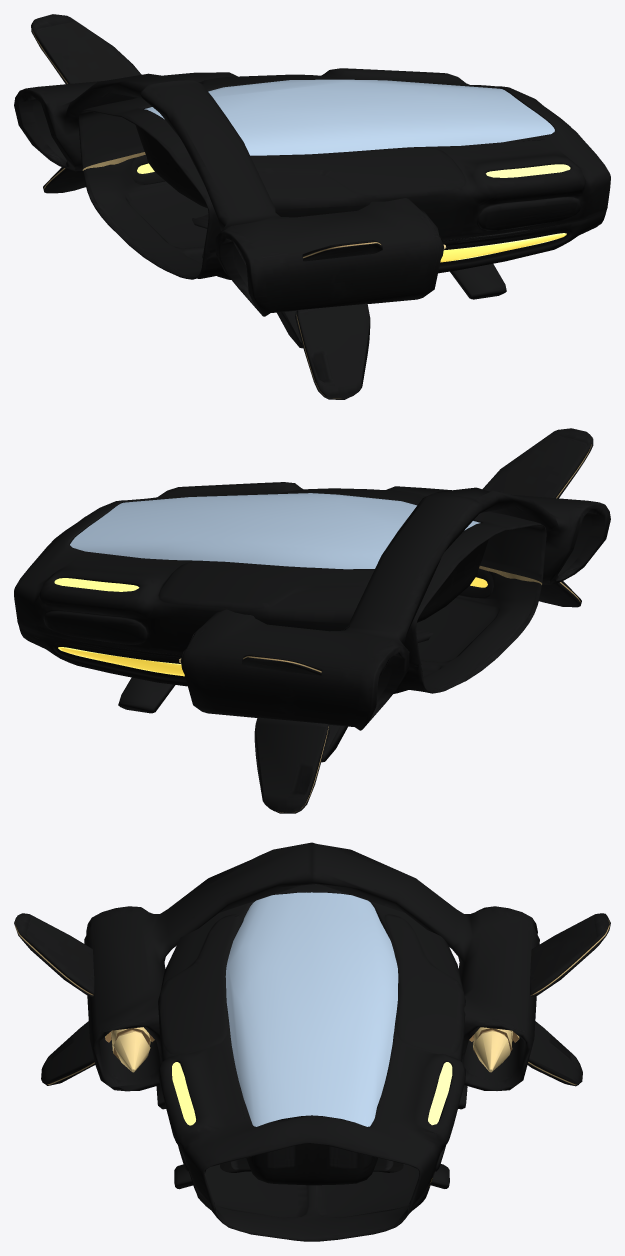
Rendered from ship.glb.
The picture shows the model from 3 angles, top to bottom: view 1: azimuth 30°, elevation 25°; view 2: azimuth 150°, elevation 25°; view 3: azimuth 270°, elevation 25°; orthographic projection. The views are drawn at different scales.
Visible parts, largest first — view 1: Hull, HullMain, Window, Lights; view 2: Hull, HullMain, Window, Lights; view 3: Hull, HullMain, Window, Engine, Lights, GoldAccents.
Boxes of the visible parts, x1,y1,x2,y2 form: Hull: (14,14,544,399); HullMain: (78,68,610,279); Window: (144,79,554,155); Lights: (137,163,570,262); Hull: (118,428,610,813); HullMain: (14,482,546,693); Window: (70,493,480,569); Lights: (54,577,487,676); Hull: (14,842,610,1189); HullMain: (158,884,465,1241); Window: (225,892,398,1126); Engine: (105,1027,519,1072); Lights: (172,1062,452,1125); GoldAccents: (15,920,609,1085).
Size of the model in its own units: 29.09 by 14.87 by 37.3.
Materials: 7 (6 with a texture image).
